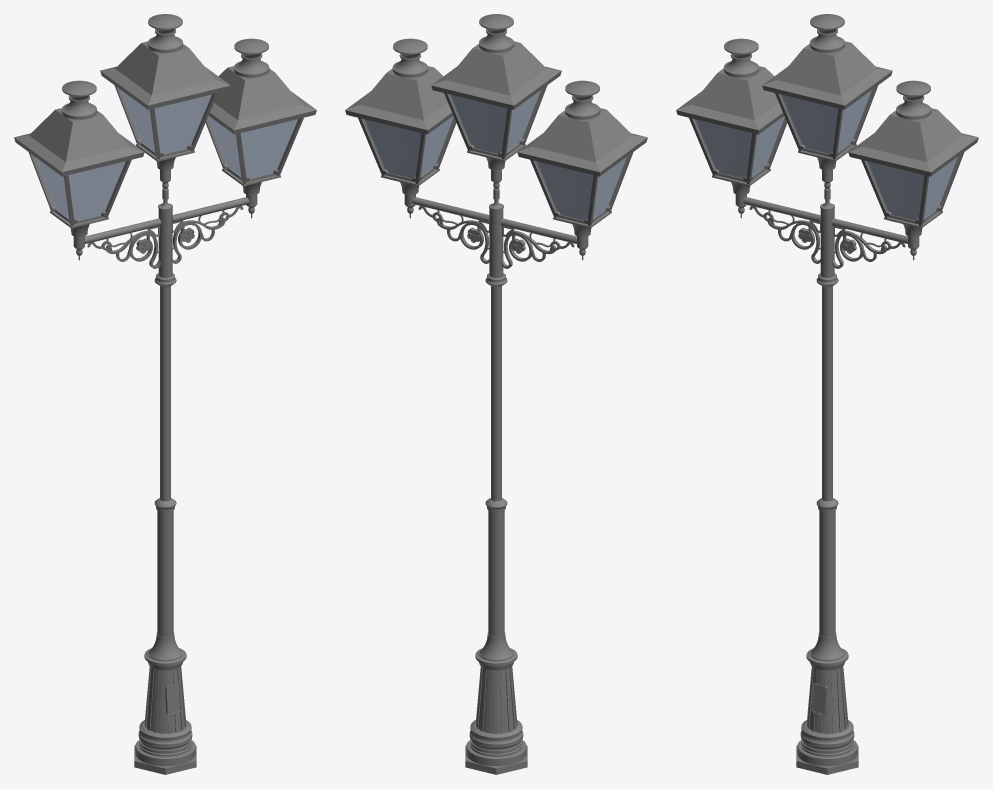
Rendered from admiral3.glb.
3 renders of one model, left to right at view 1: azimuth 30°, elevation 25°; view 2: azimuth 150°, elevation 25°; view 3: azimuth 330°, elevation 25°, orthographic.
Parts seen in each view (by area): view 1: Geom3D_ (×16), Geom3D (×3); view 2: Geom3D_ (×16), Geom3D (×3); view 3: Geom3D_ (×16), Geom3D (×3).
Part boxes in pixels (x1,y1,x2,y2): Geom3D_ (×16): (14, 14, 316, 774); Geom3D (×3): (35, 90, 297, 220); Geom3D_ (×16): (345, 14, 647, 774); Geom3D (×3): (364, 90, 626, 220); Geom3D_ (×16): (676, 14, 978, 774); Geom3D (×3): (695, 90, 957, 220).
Size of the model in its own units: 1.26 by 3.5 by 0.4094.
